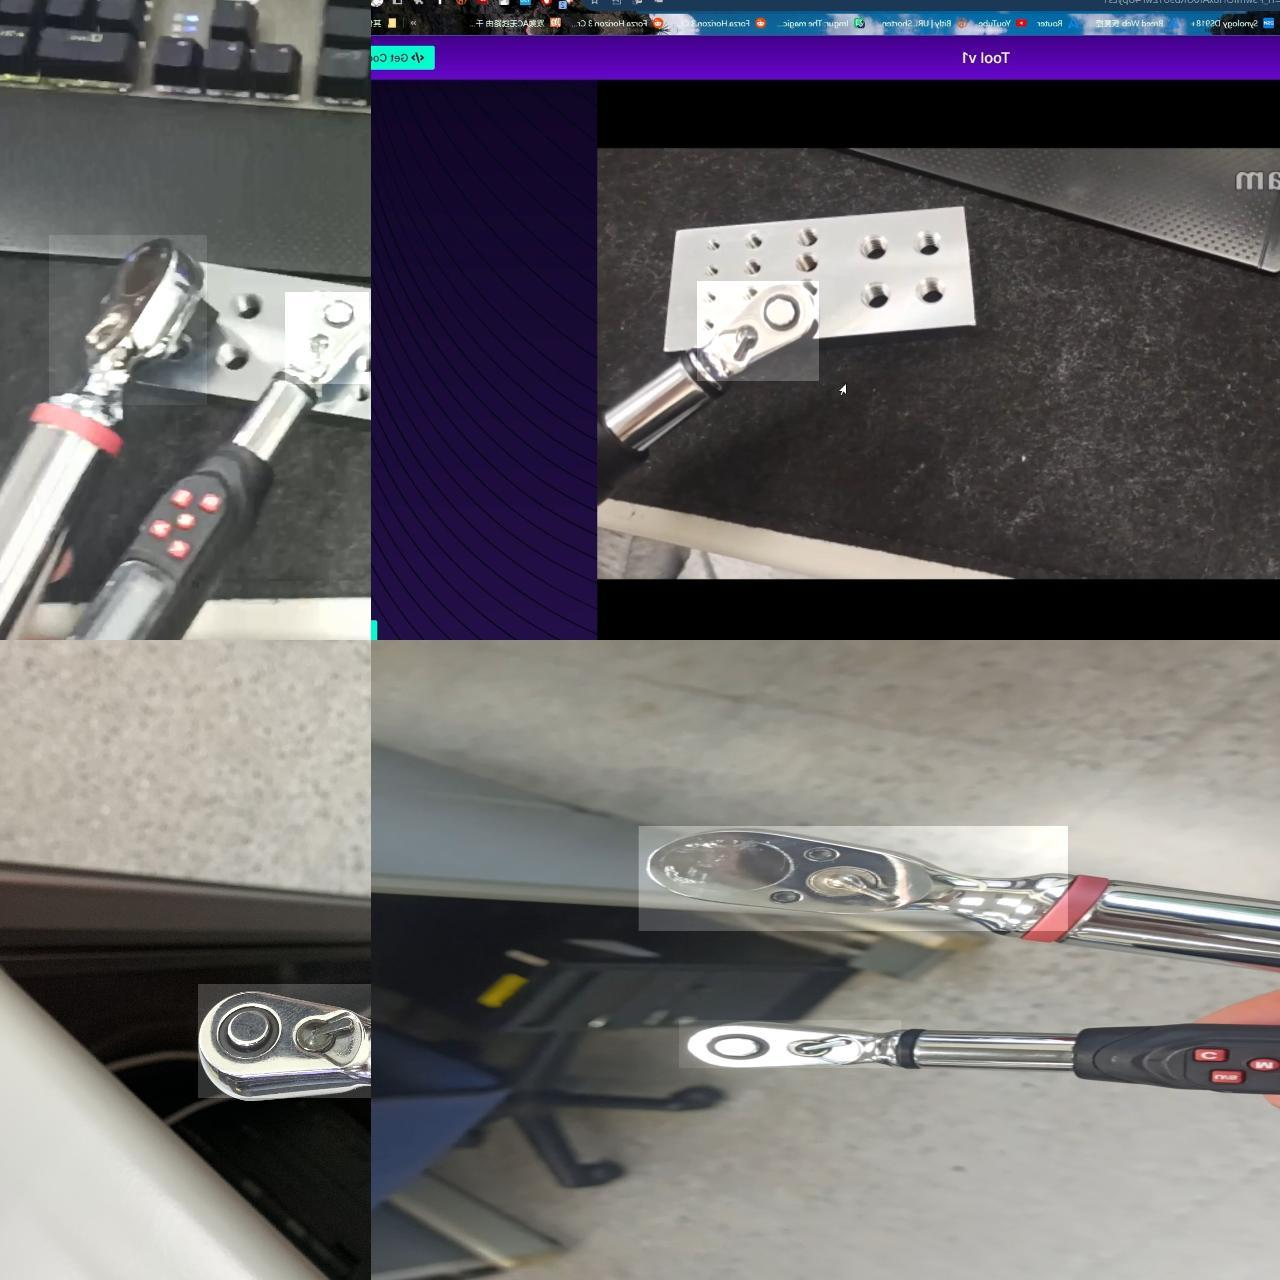Tool: (639, 826, 1068, 931), (49, 234, 207, 406), (198, 983, 372, 1098), (697, 281, 819, 381), (679, 1020, 901, 1068), (285, 292, 369, 384)
